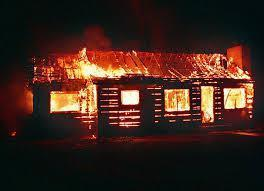fire: (26, 48, 254, 129), (89, 132, 97, 139)
